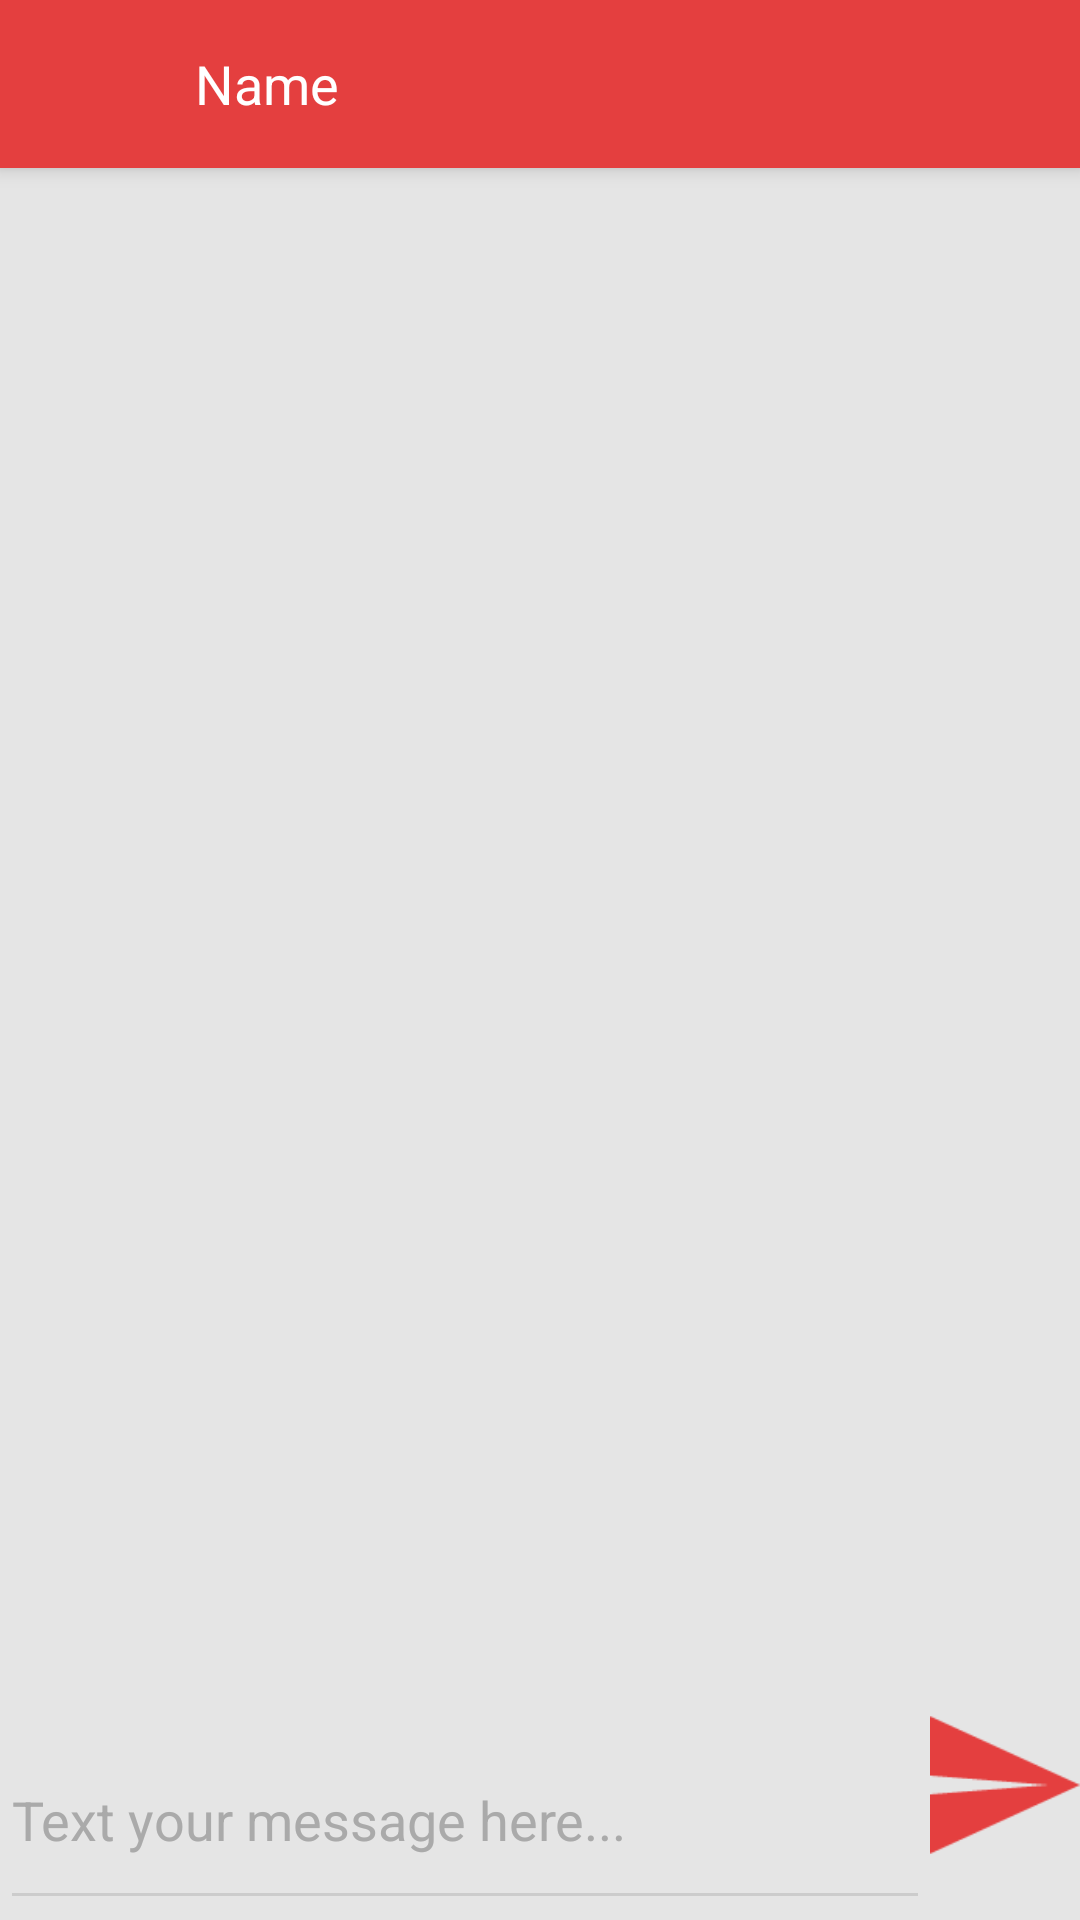

Screen size 1080 × 1920. Icon name, then its center in pixels as (x,y):
send: (1005,1785)
